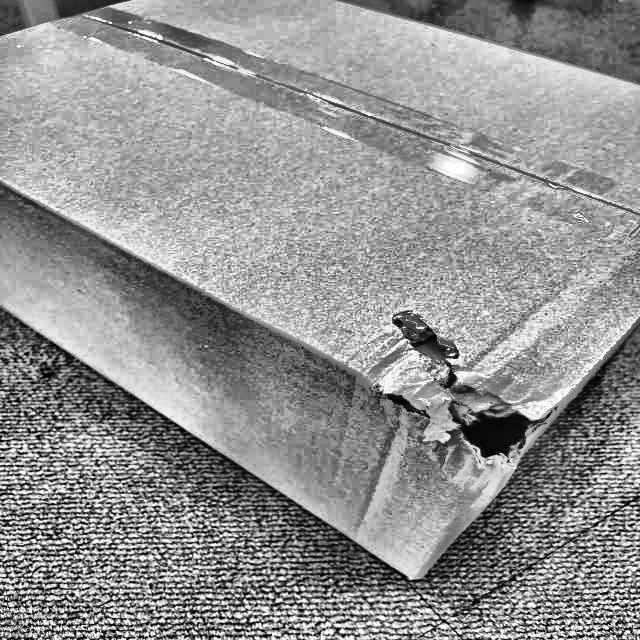box: (0, 0, 639, 594)
hole: (390, 330, 539, 459)
